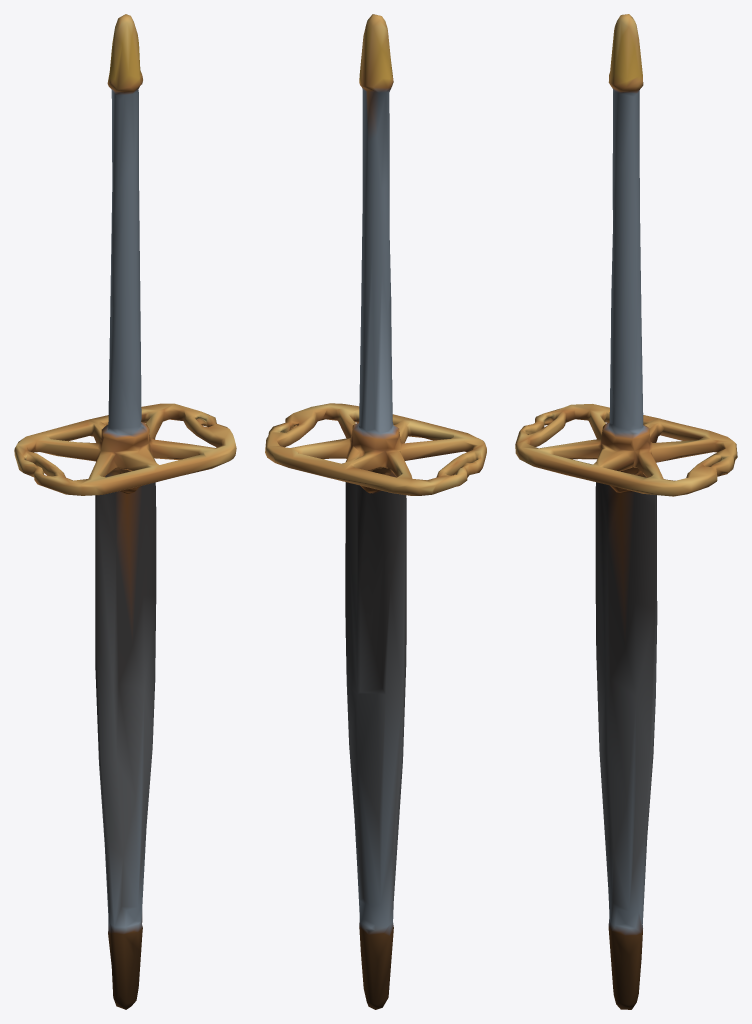
File: gen3d-rapier-lod1.glb
3 renders of one model, left to right at view 1: azimuth 30°, elevation 25°; view 2: azimuth 150°, elevation 25°; view 3: azimuth 330°, elevation 25°, orthographic.
Parts seen in each view (by area): view 1: part_0; view 2: part_0; view 3: part_0.
Boxes of the visible parts, <box> form: part_0: <box>14,14,236,1009</box>; part_0: <box>265,14,486,1009</box>; part_0: <box>515,14,737,1009</box>.
Size of the model in its own units: 0.2035 by 0.9996 by 0.1297.
